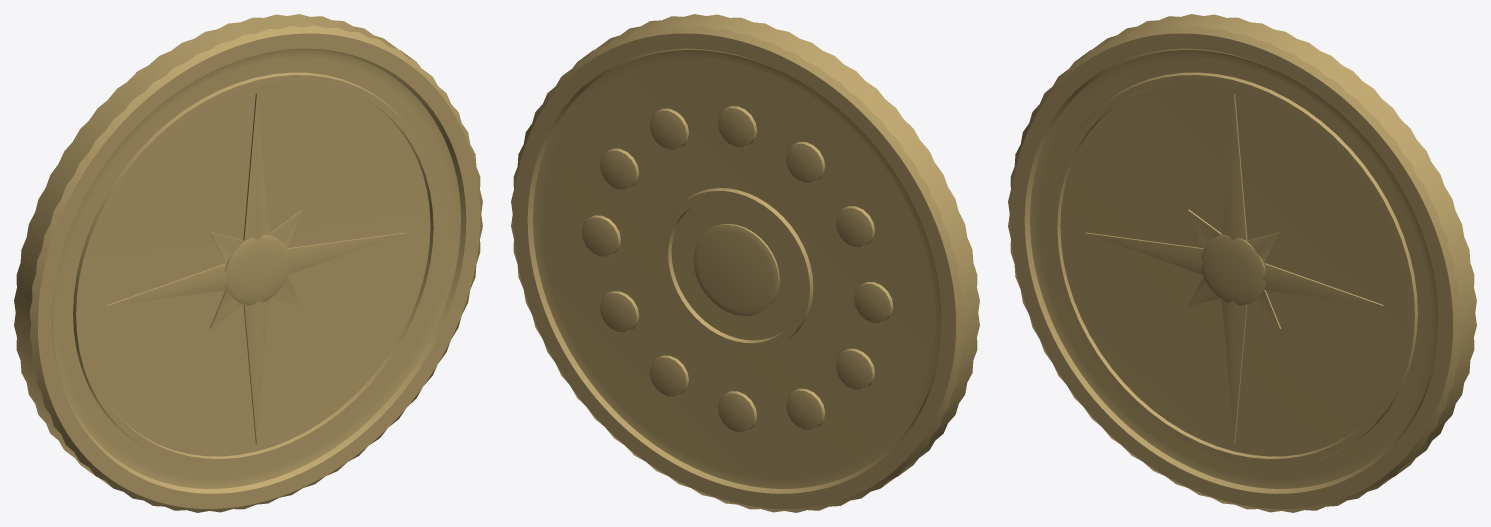
Rendered from FestivalToken.fbx.
The picture shows the model from 3 angles, left to right: view 1: azimuth 30°, elevation 25°; view 2: azimuth 150°, elevation 25°; view 3: azimuth 330°, elevation 25°; orthographic projection.
Parts seen in each view (by area): view 1: Token; view 2: Token; view 3: Token.
Part boxes in pixels (x1,y1,x2,y2): Token: (14, 14, 482, 512); Token: (511, 14, 979, 512); Token: (1008, 14, 1476, 512).
Size of the model in its own units: 0.032 by 0.032 by 0.0026.
